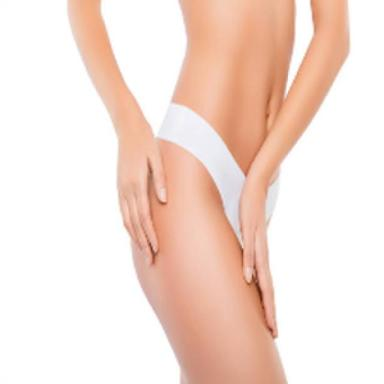normal skin: (133, 140, 285, 384), (240, 0, 349, 337), (68, 0, 167, 264), (173, 0, 293, 172)
